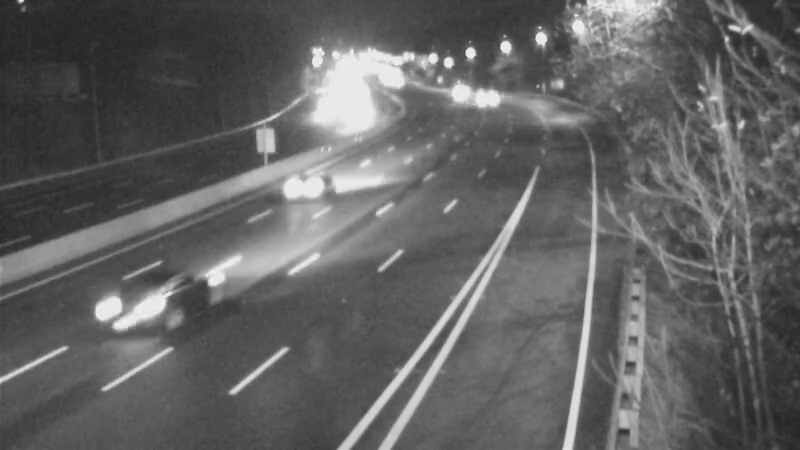vehicle: (81, 253, 191, 363), (258, 143, 338, 223), (436, 65, 486, 115), (459, 70, 509, 120)
